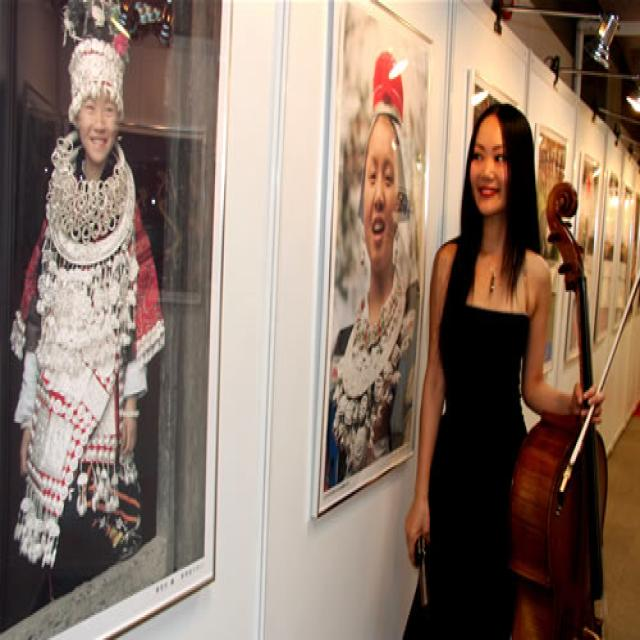cello: (502, 167, 614, 640)
